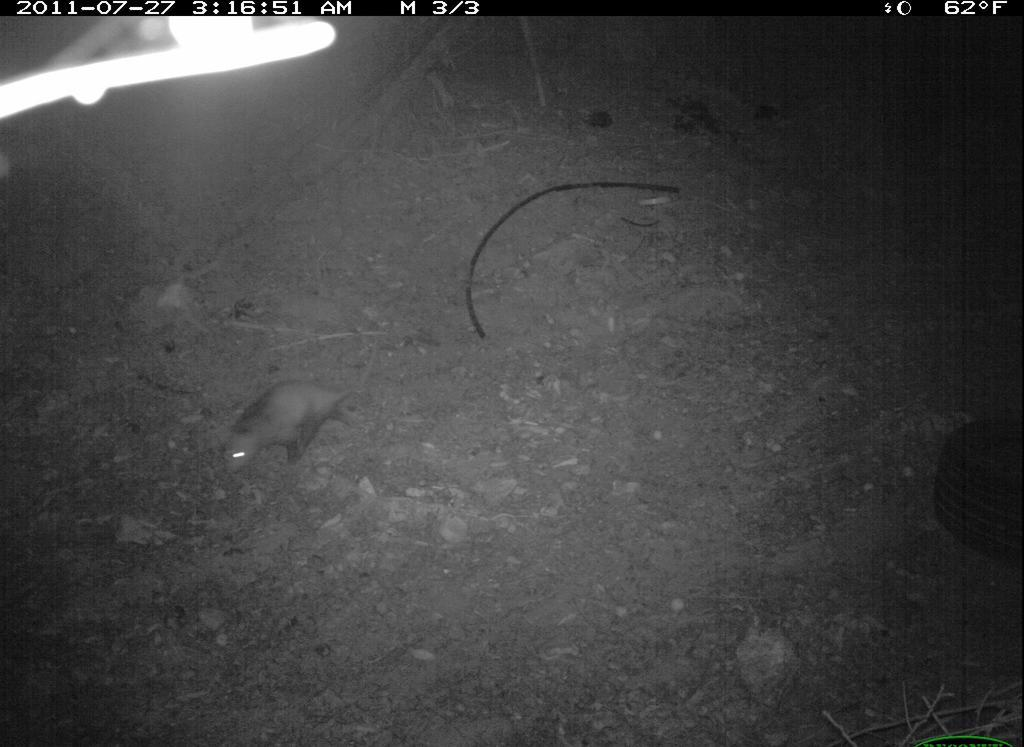opossum: (187, 373, 382, 478)
